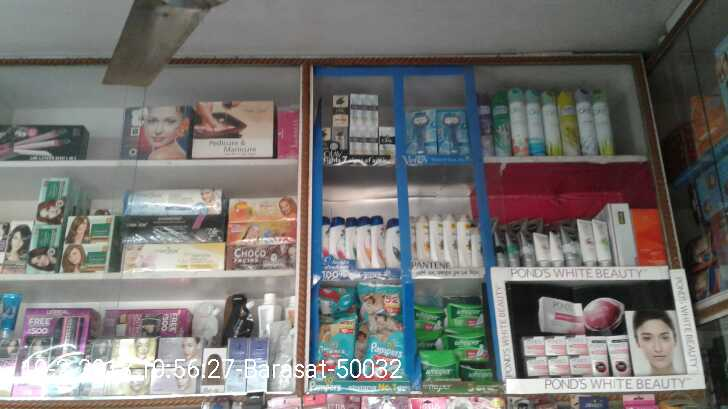venus: (437, 107, 469, 156), (408, 111, 436, 155)
